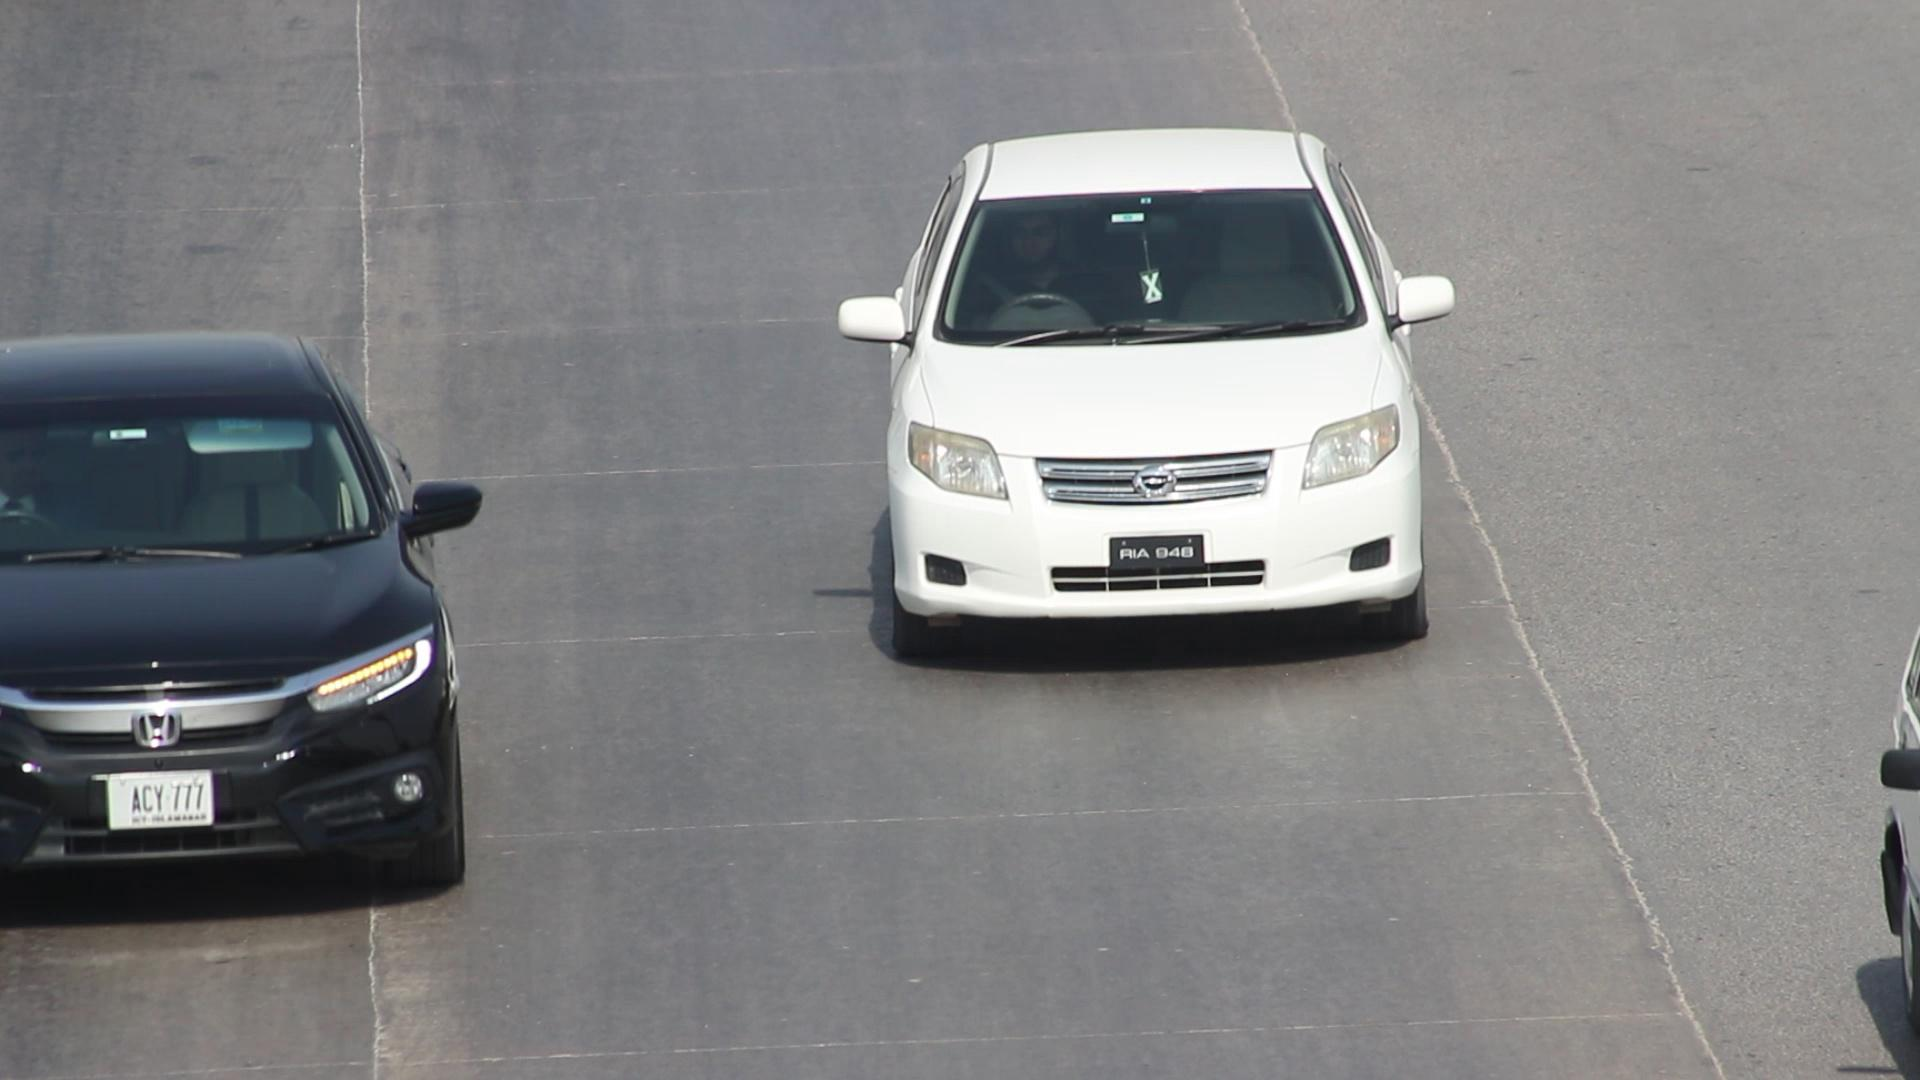windshield: (914, 179, 1383, 364)
